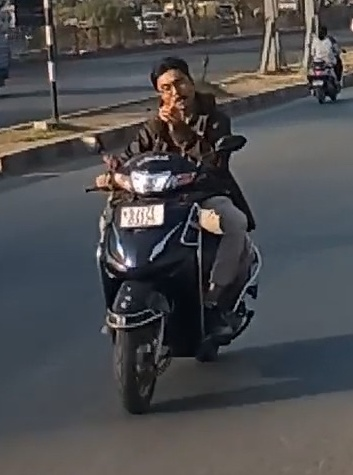BikeWithRider: (75, 52, 270, 420), (299, 19, 349, 107)
NoHelmet: (144, 53, 203, 124)
